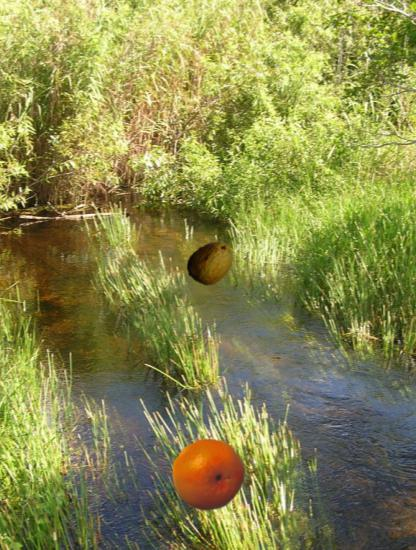Grapefruit: (171, 438, 245, 512)
Papaya: (186, 237, 237, 288)
